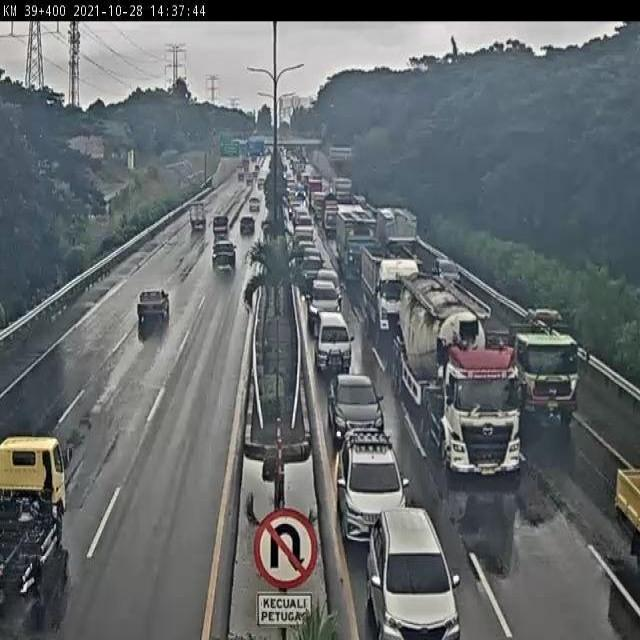big truck: (401, 281, 528, 480), (492, 312, 592, 419), (379, 208, 424, 261), (336, 209, 376, 264), (433, 255, 473, 288), (337, 257, 430, 259)
car: (368, 508, 461, 640), (333, 428, 418, 532), (319, 367, 389, 442), (313, 312, 366, 376), (136, 286, 176, 338), (304, 279, 339, 324), (234, 202, 265, 246), (209, 237, 239, 271), (316, 268, 342, 297), (299, 250, 325, 270), (212, 213, 231, 239), (292, 212, 313, 233), (293, 232, 318, 249)
small truck: (0, 432, 69, 611), (324, 196, 345, 243), (185, 196, 212, 231)
